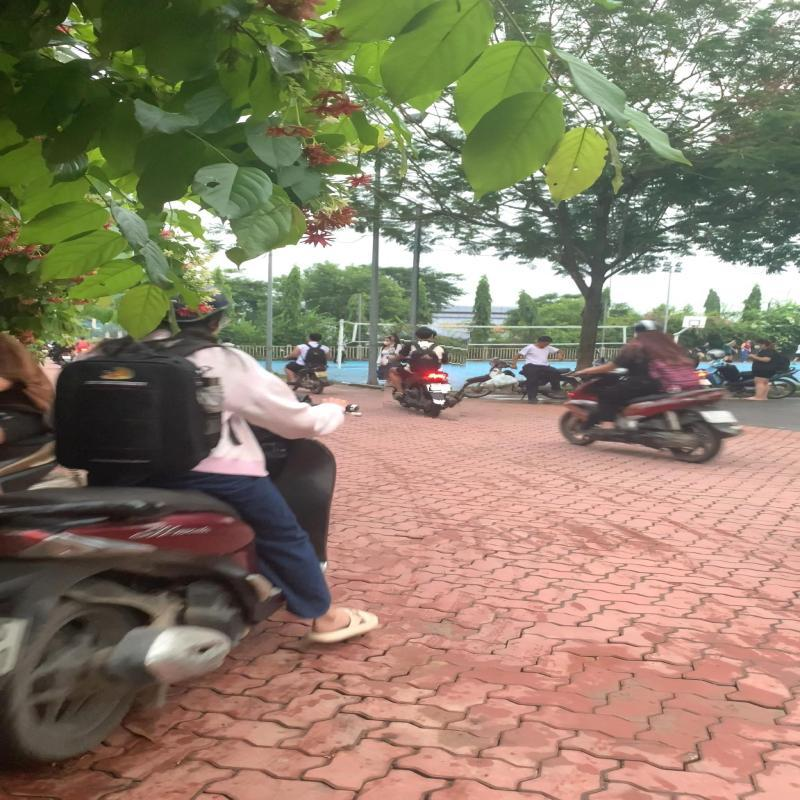licenseplate: (429, 382, 452, 391)
motorcyclist: (385, 324, 468, 419)
nohelmet: (414, 326, 433, 340), (307, 334, 322, 343)
